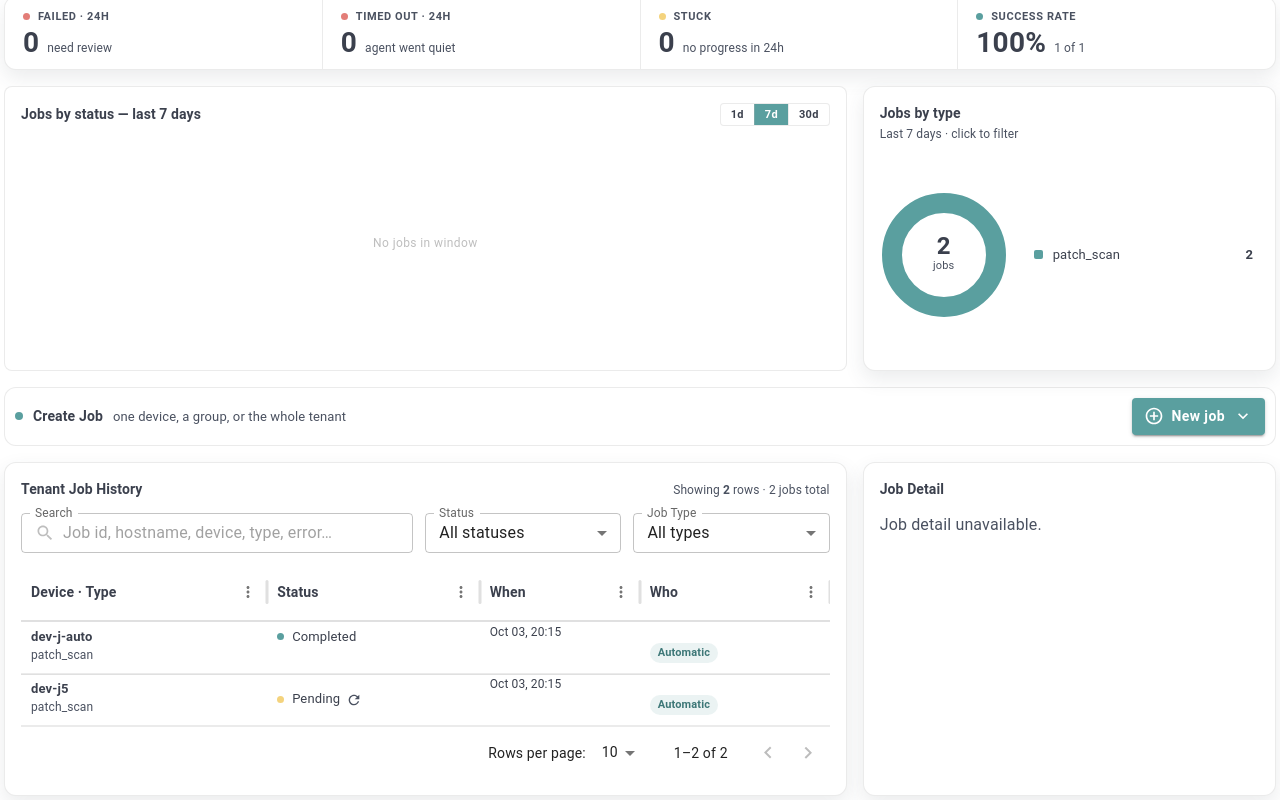
Test case: refrescar una sola fila del historial › ⚠️ si la petición falla, la fila no cambia y se avisa
(page scrolled)
What coordinates should you click on to do the following:
click the button named "refresh this job"
I would click on:
 (354, 700)
Its box is x1=344 y1=690 x2=364 y2=710.
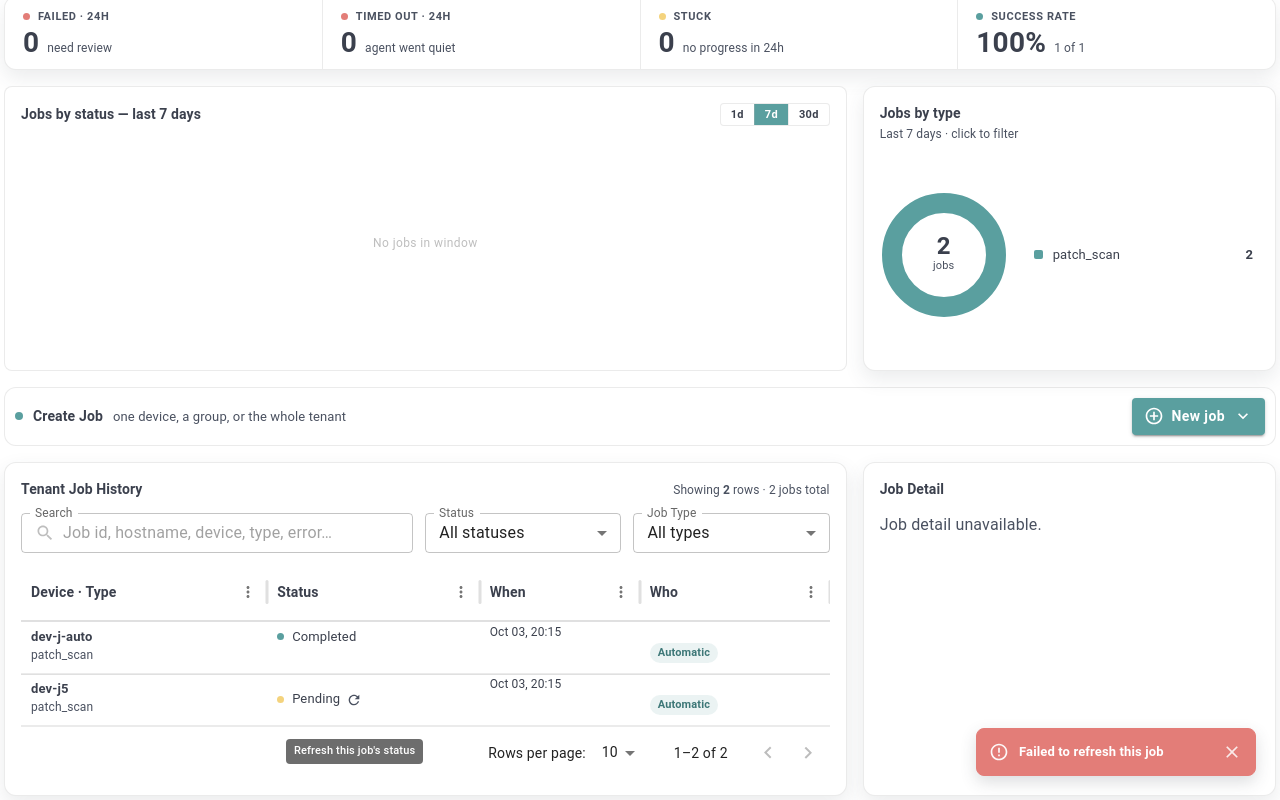
Expected: the text "Pending" is shown, x1=292 y1=689 x2=340 y2=709
Result: the text "Failed to refresh this job" is shown at x1=1019 y1=744 x2=1164 y2=759
